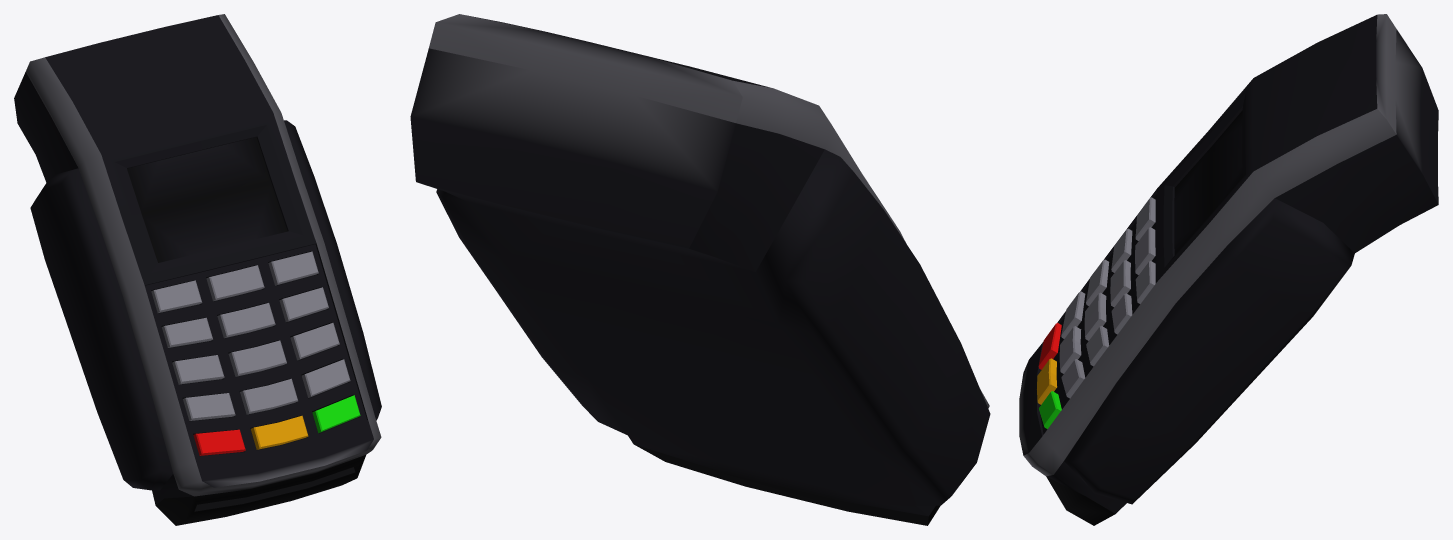
File: paymentterminal.fbx
3 renders of one model, left to right at view 1: azimuth 30°, elevation 25°; view 2: azimuth 150°, elevation 25°; view 3: azimuth 270°, elevation 25°, orthographic. The views are drawn at different scales.
Parts seen in each view (by area): view 1: pCube3; view 2: pCube3; view 3: pCube3.
Boxes of the visible parts, x1=… form: pCube3: x1=14, y1=14, x2=381, y2=525; pCube3: x1=410, y1=14, x2=990, y2=525; pCube3: x1=1019, y1=14, x2=1438, y2=525.
Bounding box in the file's own units: 11.06 × 16.89 × 15.13.
